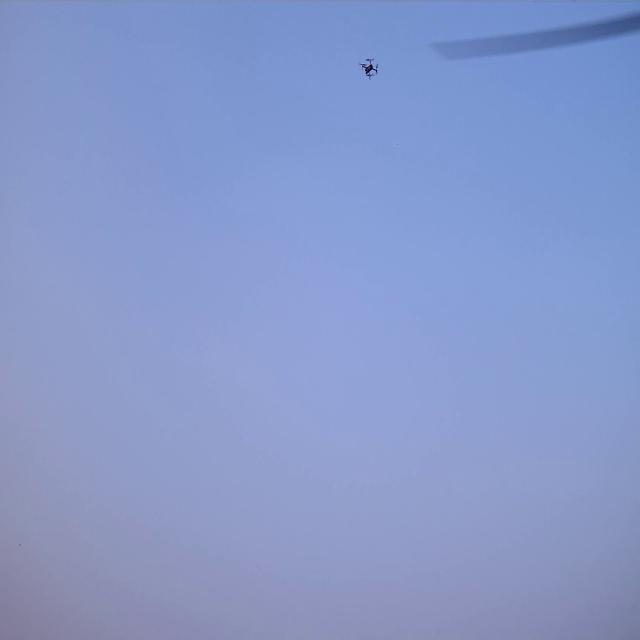UAV: (362, 59, 376, 77)
